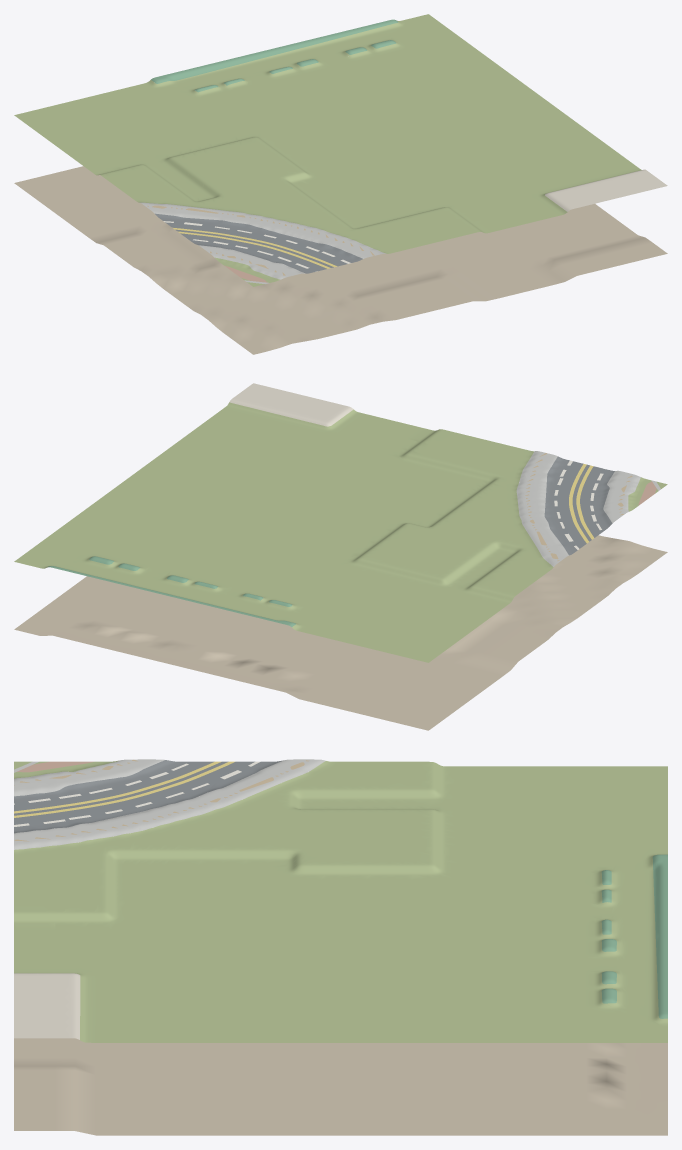
3 views of the same model, one above another, from view 1: azimuth 30°, elevation 25°; view 2: azimuth 150°, elevation 25°; view 3: azimuth 270°, elevation 25° (orthographic). The views are drawn at different scales.
Parts seen in each view (by area): view 1: s_0_-6__grass, s_0_-6__soil, s_0_-6__asphalt, s_0_-6__stone_paving, s_0_-6__green_court, s_0_-6__paving, s_0_-6__yellow_marking; view 2: s_0_-6__grass, s_0_-6__soil, s_0_-6__asphalt, s_0_-6__stone_paving, s_0_-6__paving, s_0_-6__green_court, s_0_-6__yellow_marking; view 3: s_0_-6__grass, s_0_-6__soil, s_0_-6__stone_paving, s_0_-6__asphalt, s_0_-6__paving, s_0_-6__green_court, s_0_-6__yellow_marking, s_0_-6__white_marking, s_0_-6__timber_deck.
Boxes of the visible parts, x1,y1,x2,y2 form: s_0_-6__grass: (14,14,641,286); s_0_-6__soil: (14,166,667,354); s_0_-6__asphalt: (155,213,362,273); s_0_-6__stone_paving: (140,202,386,283); s_0_-6__green_court: (151,19,398,92); s_0_-6__paving: (545,169,667,211); s_0_-6__yellow_marking: (172,227,337,268); s_0_-6__grass: (14,402,667,662); s_0_-6__soil: (14,535,667,730); s_0_-6__asphalt: (544,456,614,555); s_0_-6__stone_paving: (516,451,660,566); s_0_-6__paving: (229,383,353,426); s_0_-6__green_court: (47,556,295,626); s_0_-6__yellow_marking: (569,464,593,543); s_0_-6__grass: (14,760,667,1042); s_0_-6__soil: (14,1038,667,1135); s_0_-6__stone_paving: (14,759,325,849); s_0_-6__asphalt: (14,760,282,833); s_0_-6__paving: (14,973,80,1039); s_0_-6__green_court: (601,854,667,1018); s_0_-6__yellow_marking: (14,761,234,817); s_0_-6__white_marking: (14,761,260,826); s_0_-6__timber_deck: (14,759,309,841).
Size of the model in its own units: 128 by 21.51 by 128.
